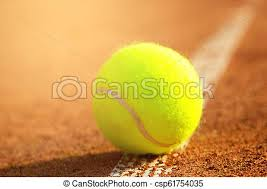tennis_ball: (90, 41, 206, 158)
